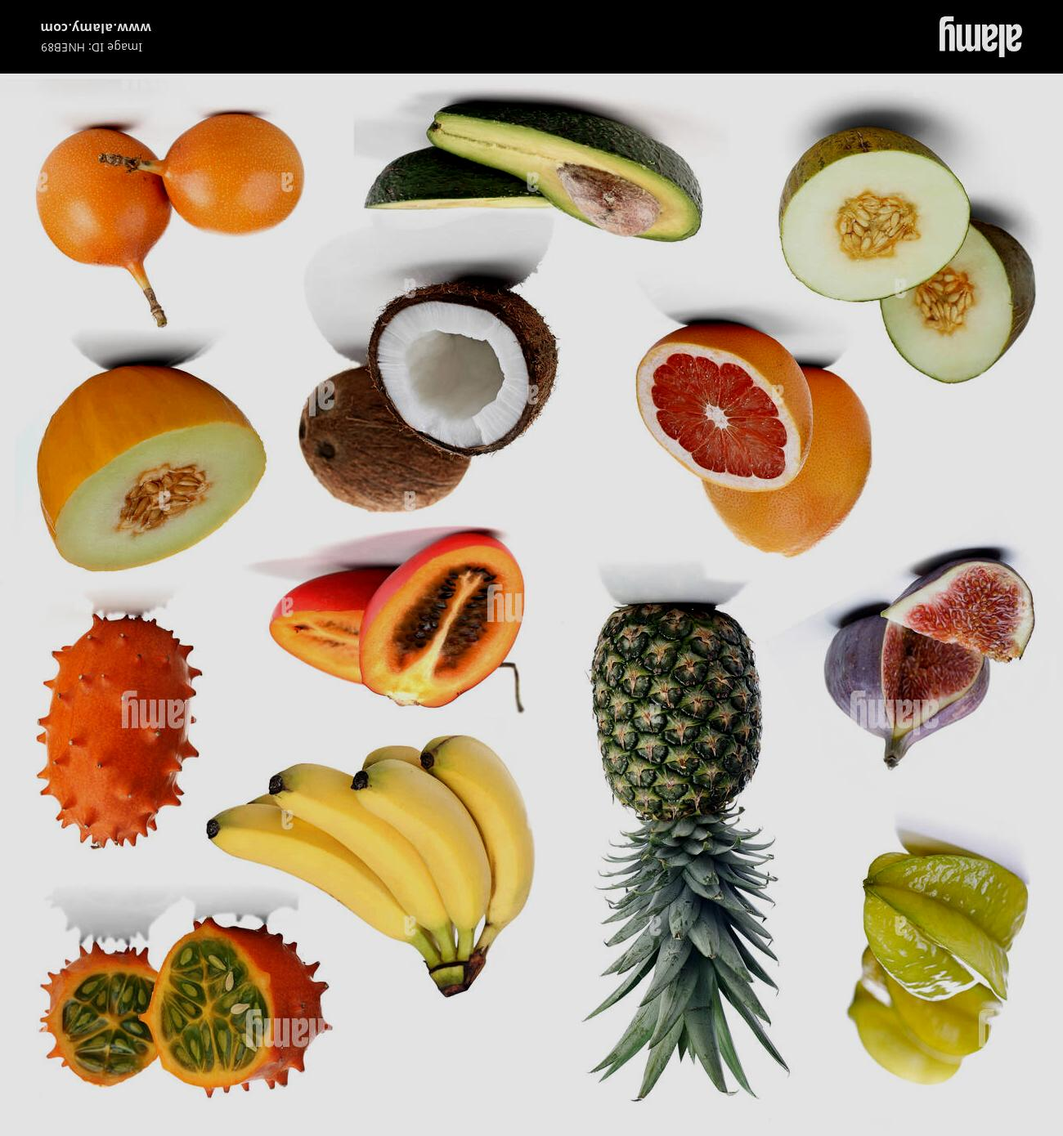chuoi: (200, 735, 541, 1006)
